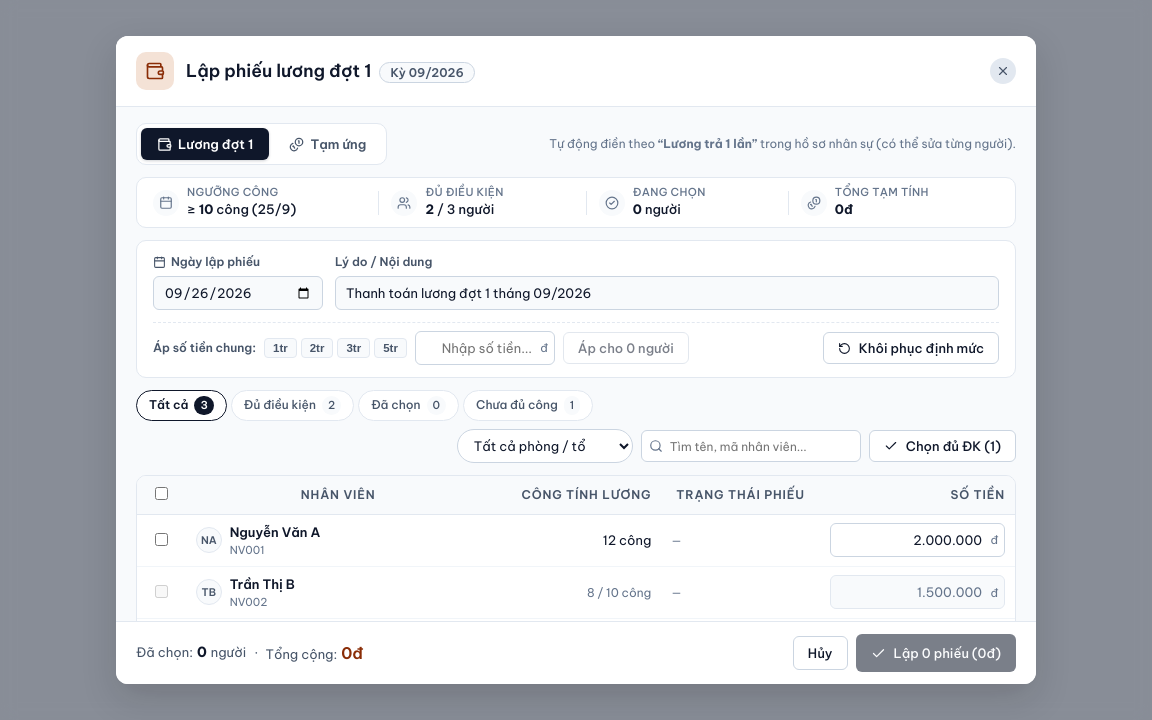
Test: LapHangLoatModal › filters candidates using filter tabs and search input
The image size is (1152, 720).
Expected: the text "Nguyễn Văn A" is shown, [230,522,320,542]
# Click "Chưa đủ công" tab
Click the button "Chưa đủ công 1" at (528, 406), box [463,390,593,421]
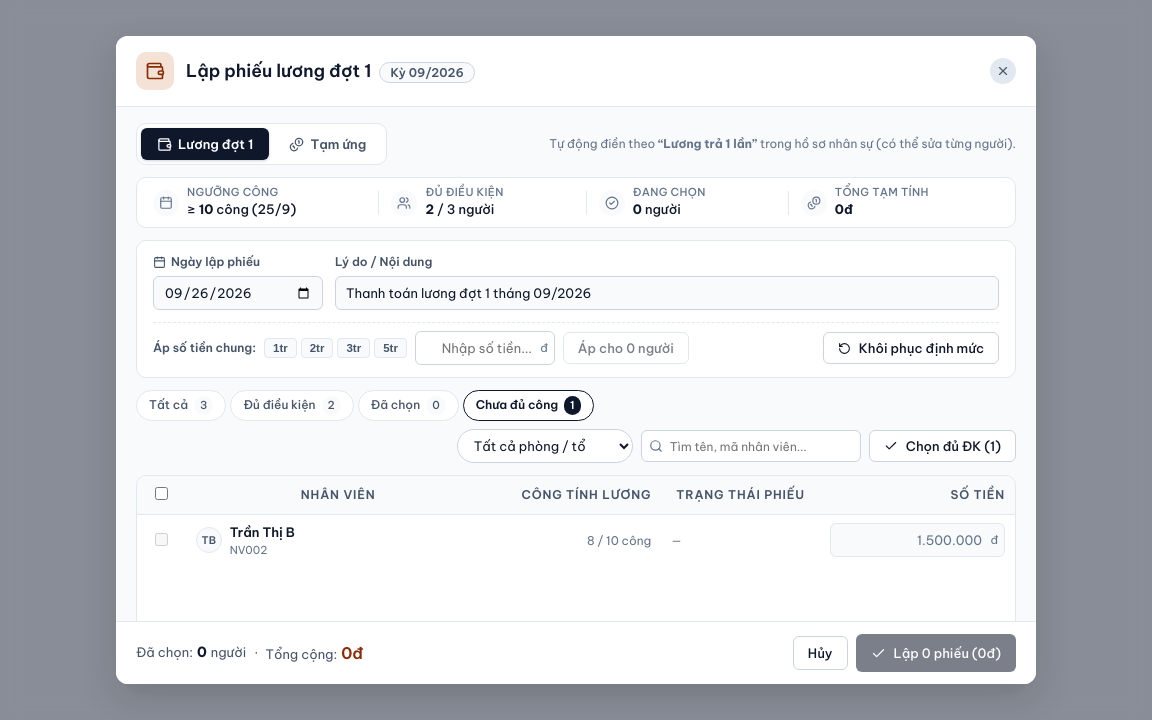
Expected: the text "Trần Thị B" is shown, [230,522,295,542]
Now the text "Nguyễn Văn A" is gone
# Click "Đủ điều kiện" tab
Click the button "Đủ điều kiện 2" at (292, 406), box [230,390,354,421]
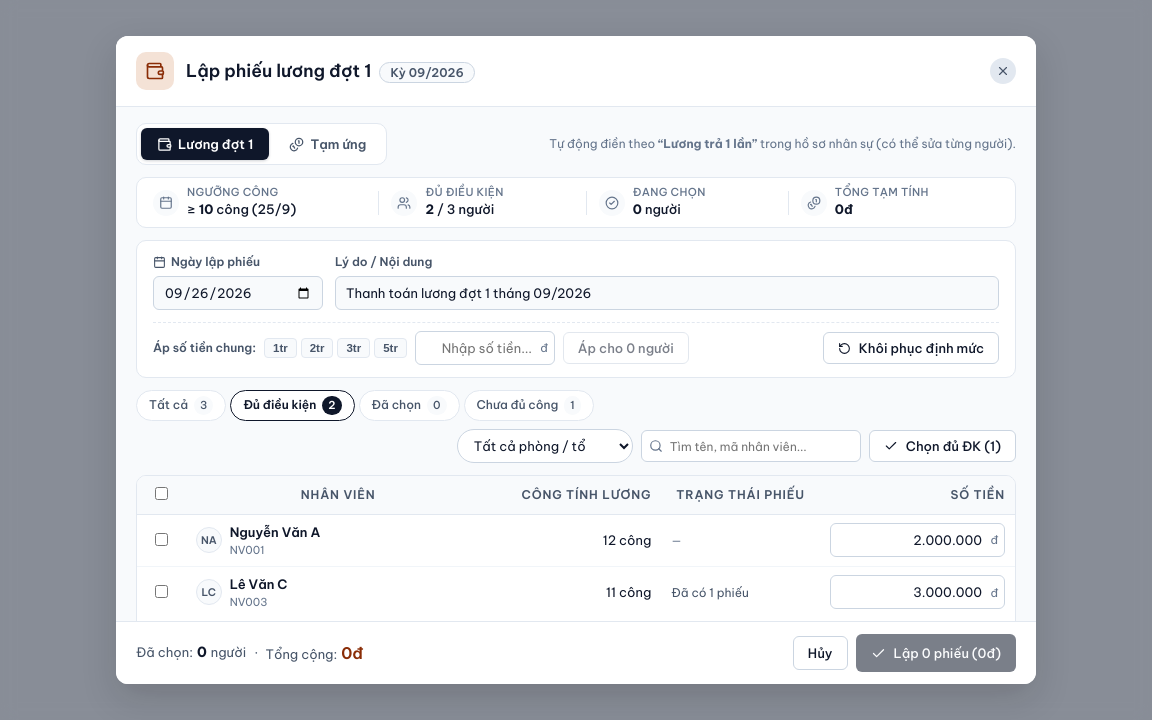
Now the text "Nguyễn Văn A" is shown, box [230,522,320,542]
Now the text "Lê Văn C" is shown, box [230,574,288,594]
Now the text "Trần Thị B" is gone
# Search by name
Type "NV001" into the field with placeholder "Tìm tên, mã nhân viên..." at (751, 446), box [641,430,861,462]
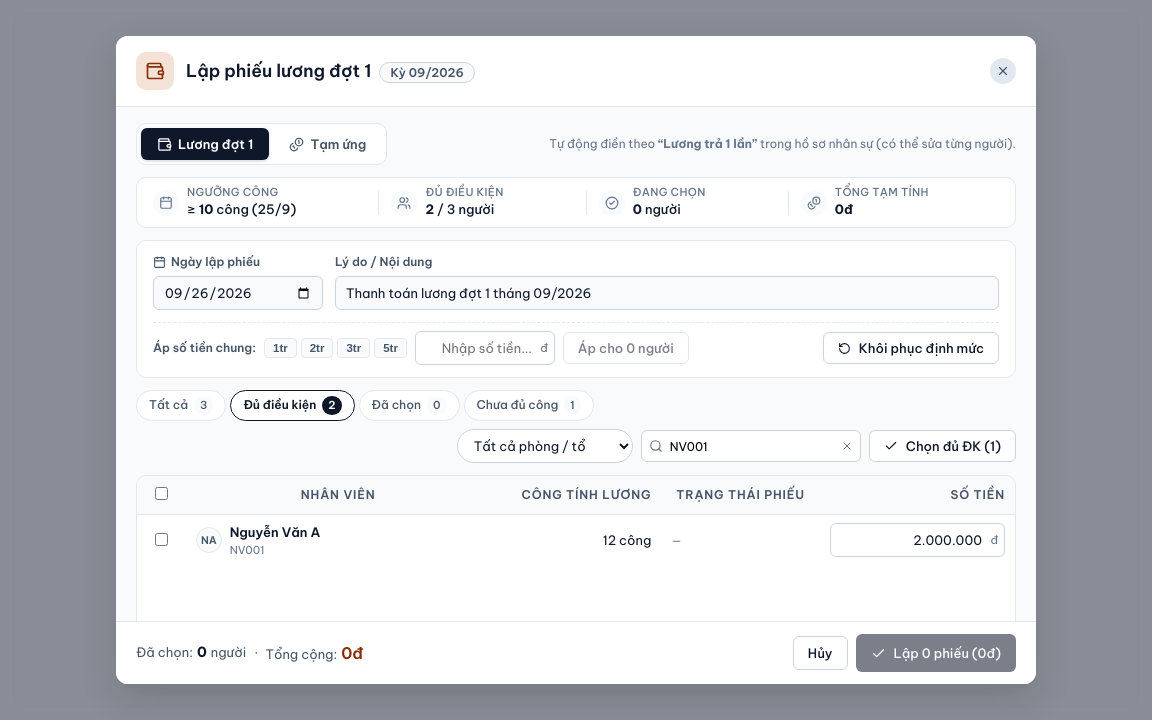
Now the text "Nguyễn Văn A" is shown, box [230,522,320,542]
Now the text "Lê Văn C" is gone
